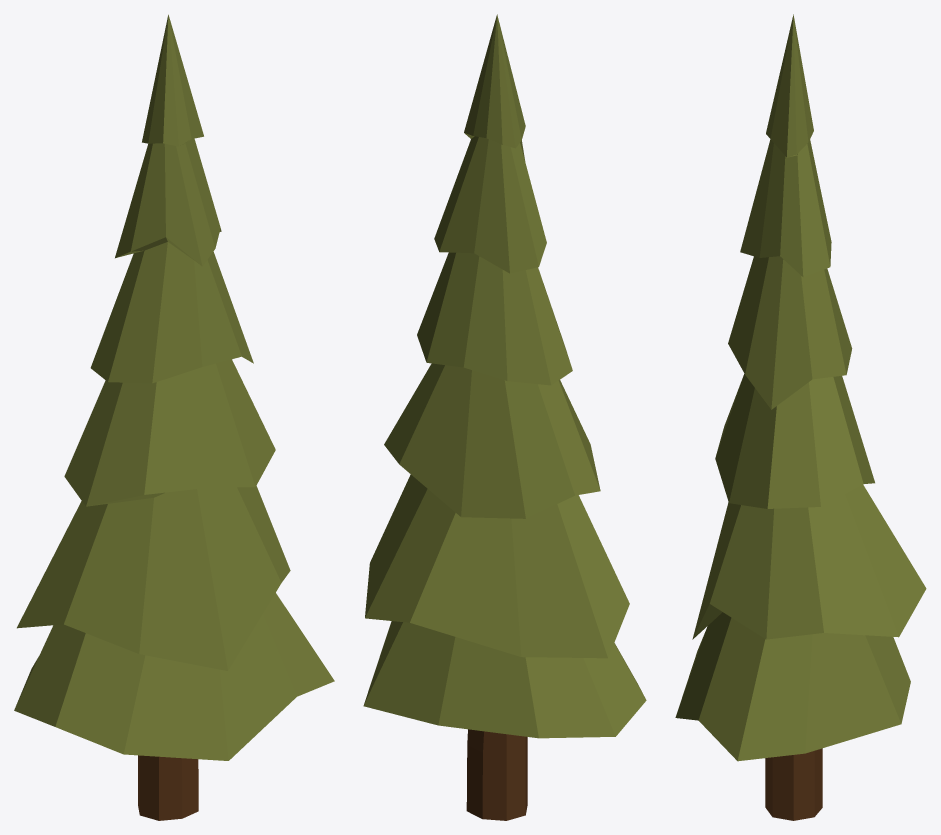
The model's file is PineTree2.fbx.
The picture shows the model from 3 angles, left to right: view 1: azimuth 30°, elevation 25°; view 2: azimuth 150°, elevation 25°; view 3: azimuth 270°, elevation 25°; orthographic projection.
Visible parts, largest first — view 1: Pine tree 2; view 2: Pine tree 2; view 3: Pine tree 2.
Boxes of the visible parts, bbox=[...] form: Pine tree 2: bbox=[14, 14, 334, 820]; Pine tree 2: bbox=[363, 14, 646, 820]; Pine tree 2: bbox=[675, 14, 926, 820].
Bounding box in the file's own units: 406 × 1119 × 321.
